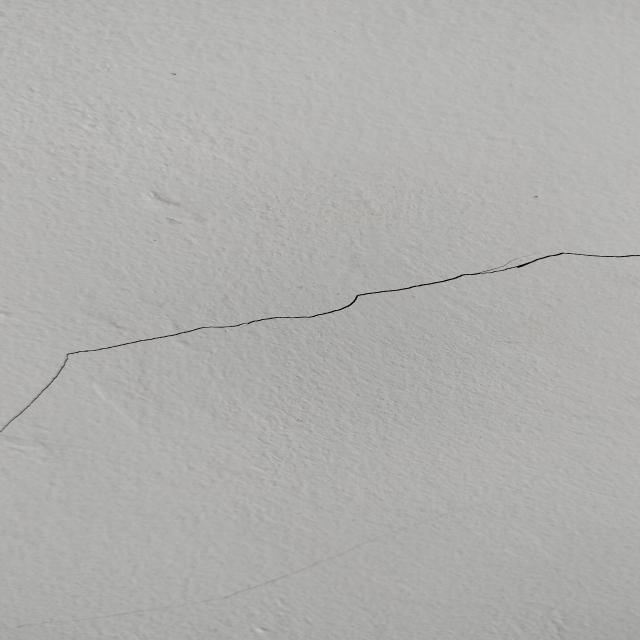Crack: (0, 246, 640, 440)
